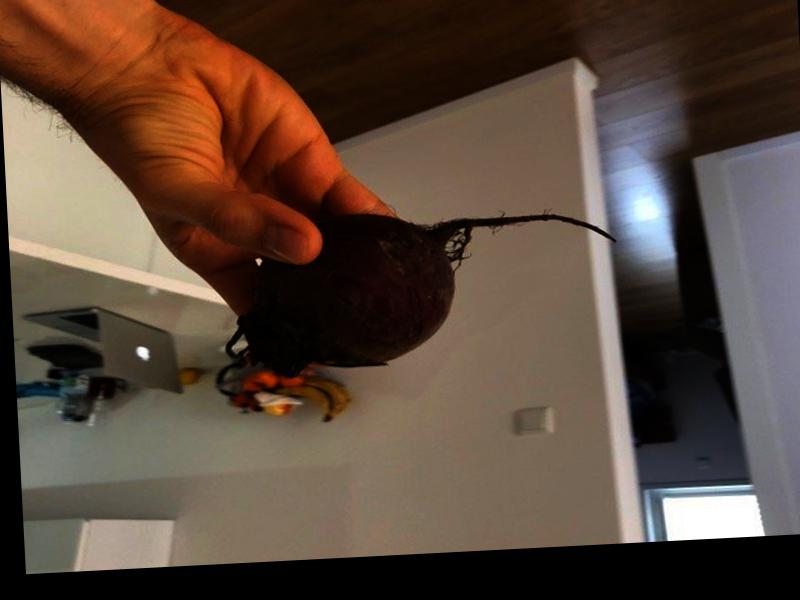Beet: (221, 202, 623, 378)
